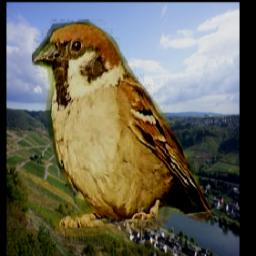Sparrow: (31, 19, 210, 237)
